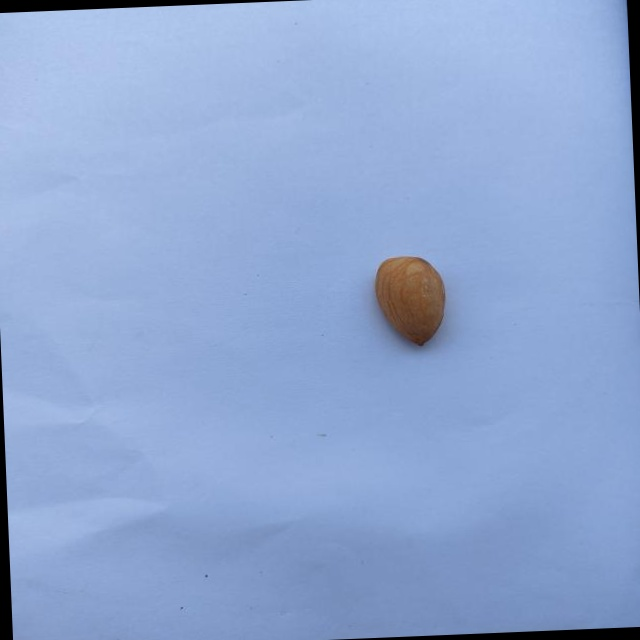grade2: (367, 252, 451, 351)
